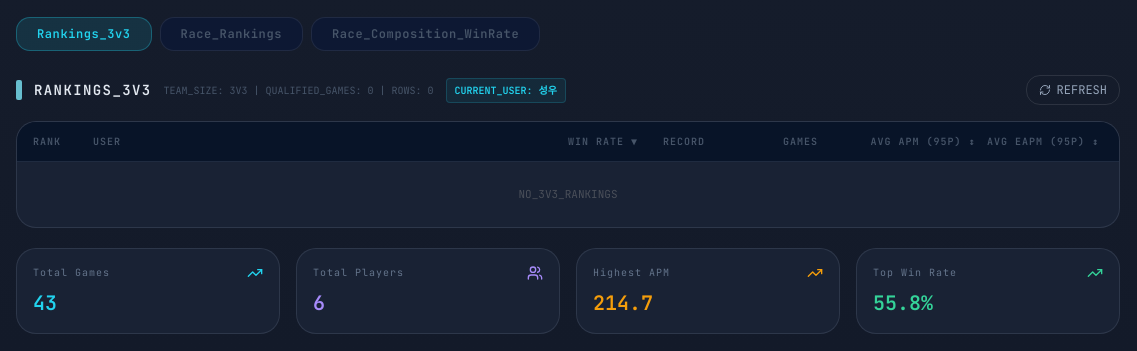
Scenario: rankings page › renders legacy empty copy for both rankings tables
The width and height of the screenshot is (1137, 351).
Expected: the text "NO_3V3_RANKINGS" is shown, [518,187,618,201]
Click the button "Race_Composition_WinRate". click: (426,34)
box: [311,17,540,51]
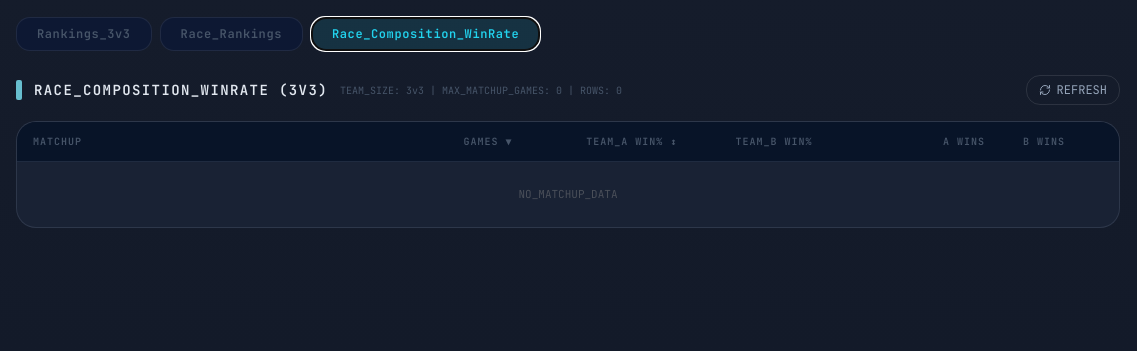
Now the text "NO_MATCHUP_DATA" is shown, box [518,187,618,201]
